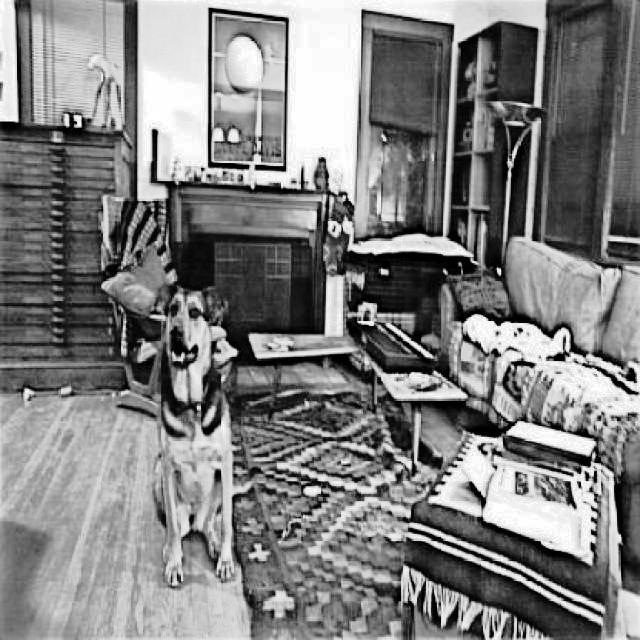Dog: (152, 279, 243, 590)
